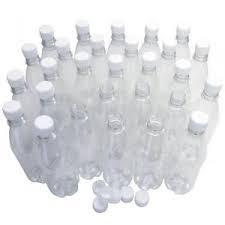Plastic bottle: (1, 12, 225, 219)
